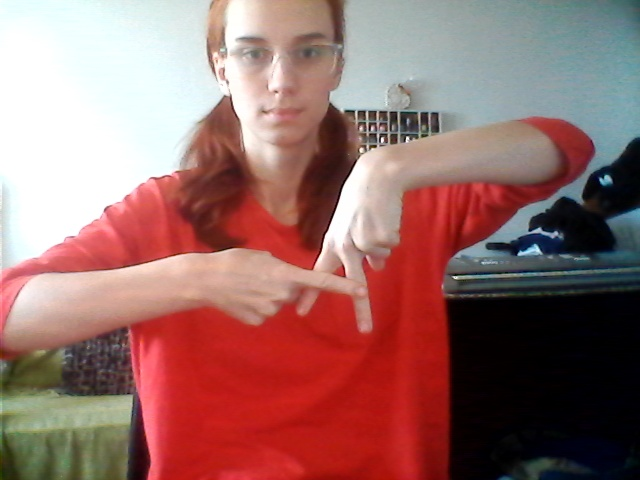a: (239, 241, 421, 357)
